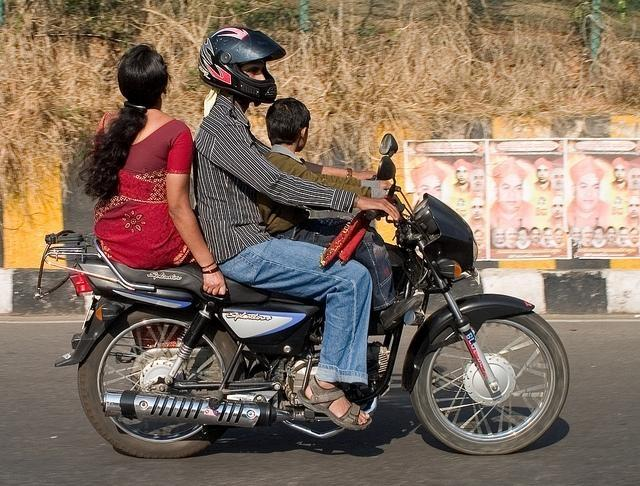motorcycle: (33, 133, 570, 460)
